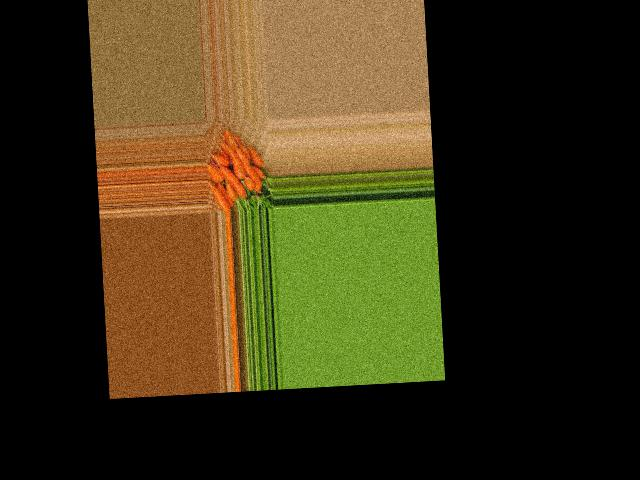carrot: (251, 162, 267, 177)
